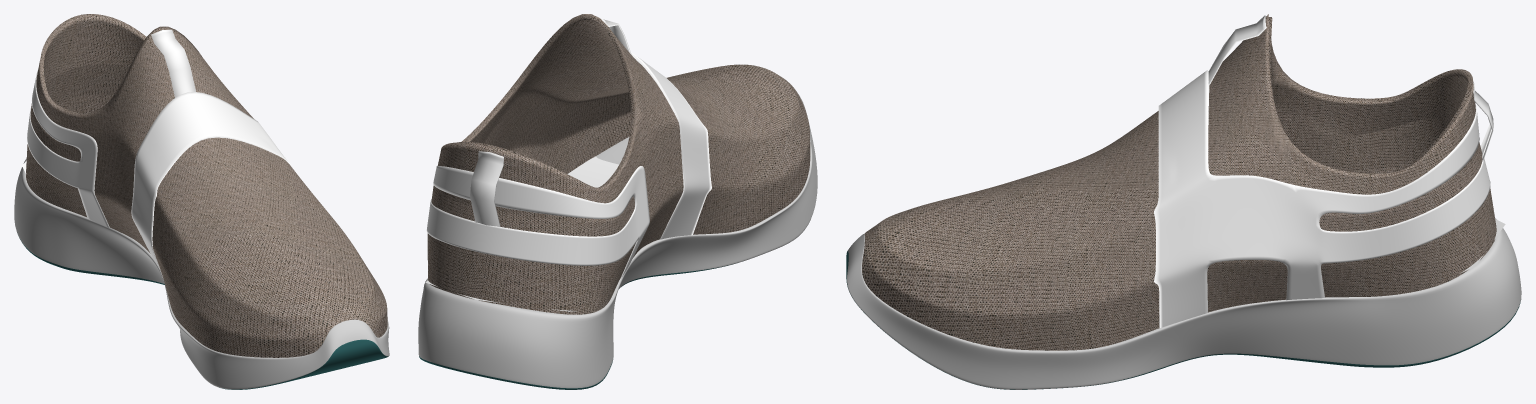
The model's file is Shoes-Make.gltf.
3 renders of one model, left to right at view 1: azimuth 30°, elevation 25°; view 2: azimuth 150°, elevation 25°; view 3: azimuth 270°, elevation 25°, orthographic. The views are drawn at different scales.
Parts seen in each view (by area): view 1: Shoe-Fabric, Sole, Shoe-Plastic, Shoe-Fabric.001; view 2: Shoe-Fabric, Sole, Shoe-Plastic, Shoe-Fabric.003, Inner-Shoe; view 3: Shoe-Fabric, Sole, Shoe-Plastic, Shoe-Fabric.001.
Part boxes in pixels (bbox=[...]): Shoe-Fabric: bbox=[26, 14, 387, 357]; Sole: bbox=[14, 158, 389, 389]; Shoe-Plastic: bbox=[27, 69, 291, 277]; Shoe-Fabric.001: bbox=[151, 29, 195, 97]; Shoe-Fabric: bbox=[427, 14, 810, 314]; Sole: bbox=[418, 76, 817, 389]; Shoe-Plastic: bbox=[426, 52, 711, 278]; Shoe-Fabric.003: bbox=[470, 151, 503, 226]; Inner-Shoe: bbox=[425, 156, 618, 311]; Shoe-Fabric: bbox=[862, 14, 1496, 350]; Sole: bbox=[846, 218, 1521, 389]; Shoe-Plastic: bbox=[1154, 70, 1490, 327]; Shoe-Fabric.001: bbox=[1208, 15, 1266, 84].
Bounding box in the file's own units: 1.62 × 2.24 × 4.37.
Materials: 8 (2 with a texture image).
